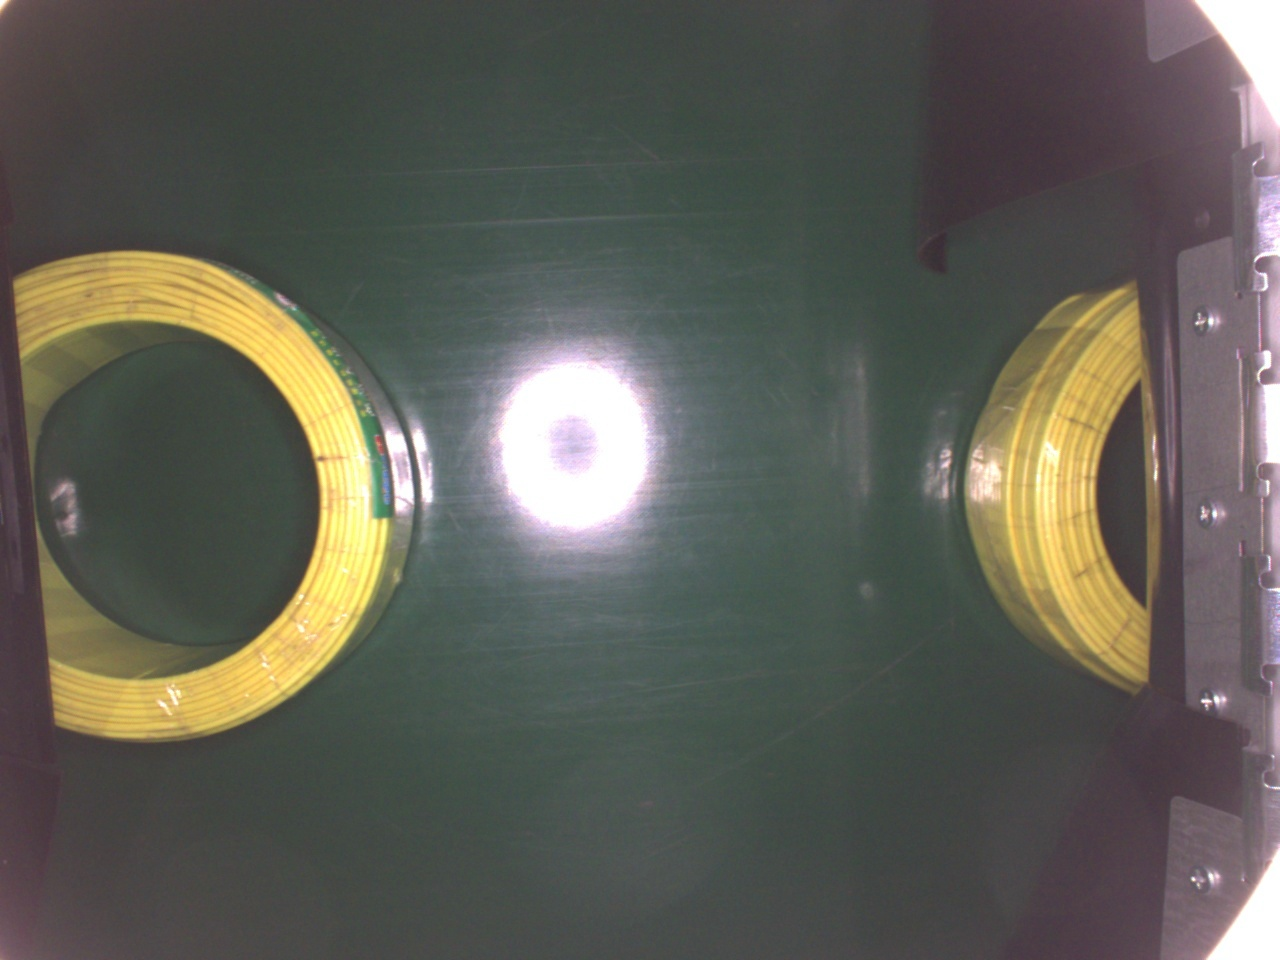yellow: (13, 247, 421, 740), (949, 268, 1165, 693)
